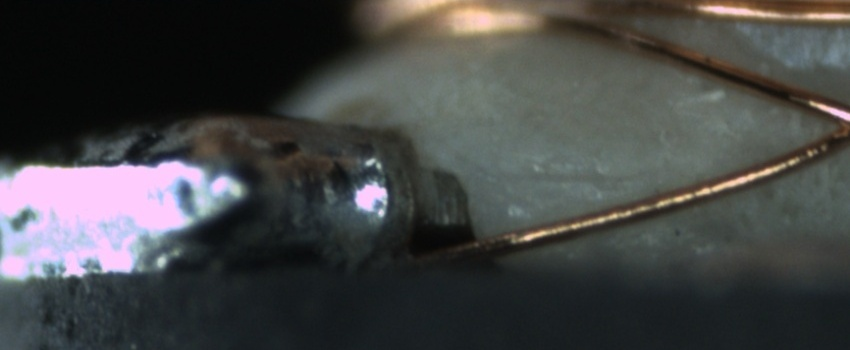CL: (802, 93, 850, 158)
DL: (501, 147, 647, 206)
